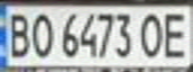3: (112, 9, 139, 58)
4: (78, 9, 100, 58)
6: (57, 10, 81, 58)
7: (93, 9, 118, 58)
B: (3, 9, 33, 60)
E: (157, 8, 193, 60)
O: (136, 9, 169, 60), (27, 9, 57, 60)
